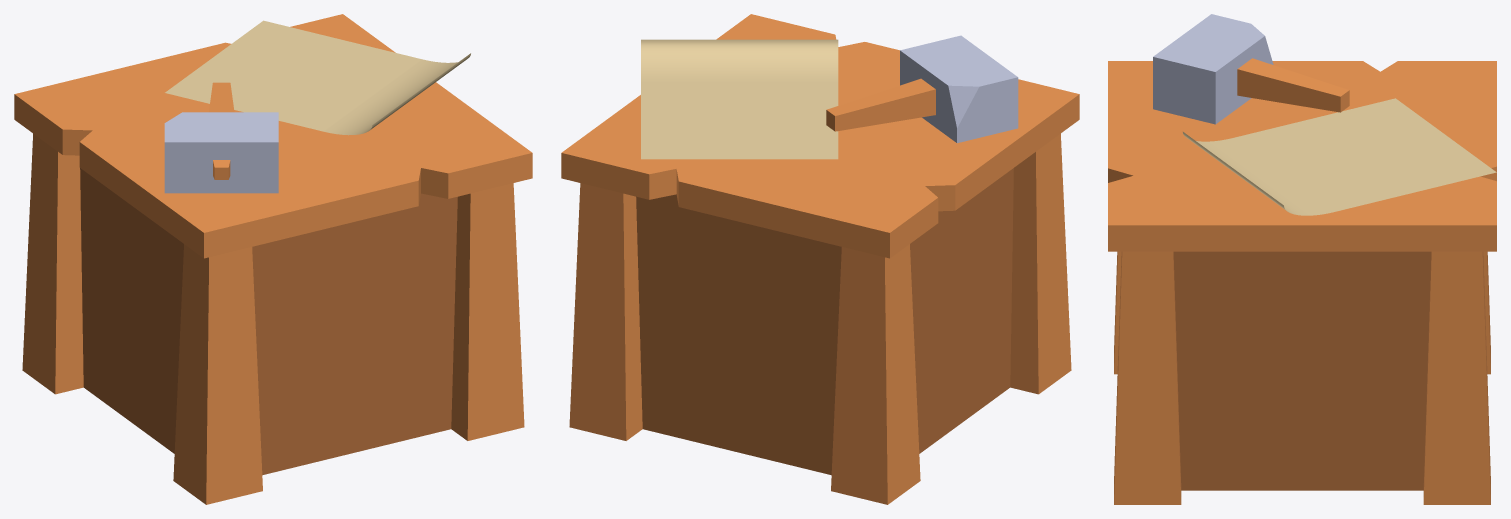
The model's file is CraftingTable.glb.
The picture shows the model from 3 angles, left to right: view 1: azimuth 30°, elevation 25°; view 2: azimuth 150°, elevation 25°; view 3: azimuth 270°, elevation 25°; orthographic projection. The views are drawn at different scales.
Parts seen in each view (by area): view 1: workbench, paper, hammer; view 2: workbench, paper, hammer; view 3: workbench, paper, hammer.
Part boxes in pixels (x1,y1,x2,y2): workbench: (14, 14, 532, 504); paper: (165, 20, 470, 135); hammer: (164, 82, 278, 193); workbench: (561, 14, 1079, 504); paper: (641, 39, 838, 159); hammer: (826, 35, 1018, 143); workbench: (1108, 61, 1496, 504); paper: (1183, 98, 1496, 215); hammer: (1153, 14, 1349, 124).
Bounding box in the file's own units: 1.07 × 0.9495 × 0.9996.
